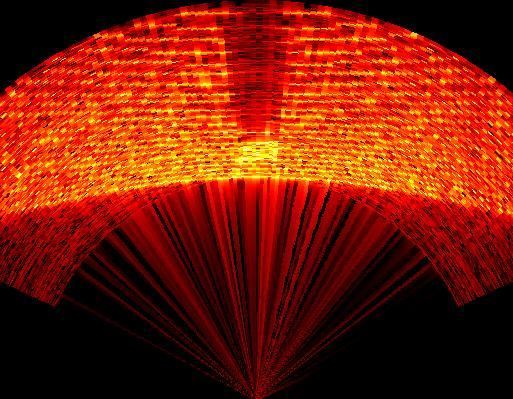box_crate: (224, 2, 290, 142)
